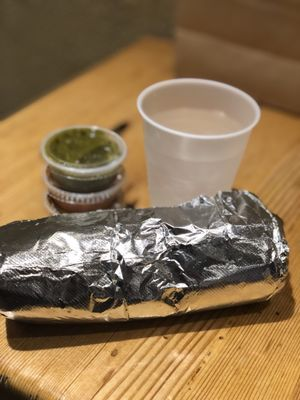pizza: (136, 77, 262, 208), (40, 124, 129, 212)
